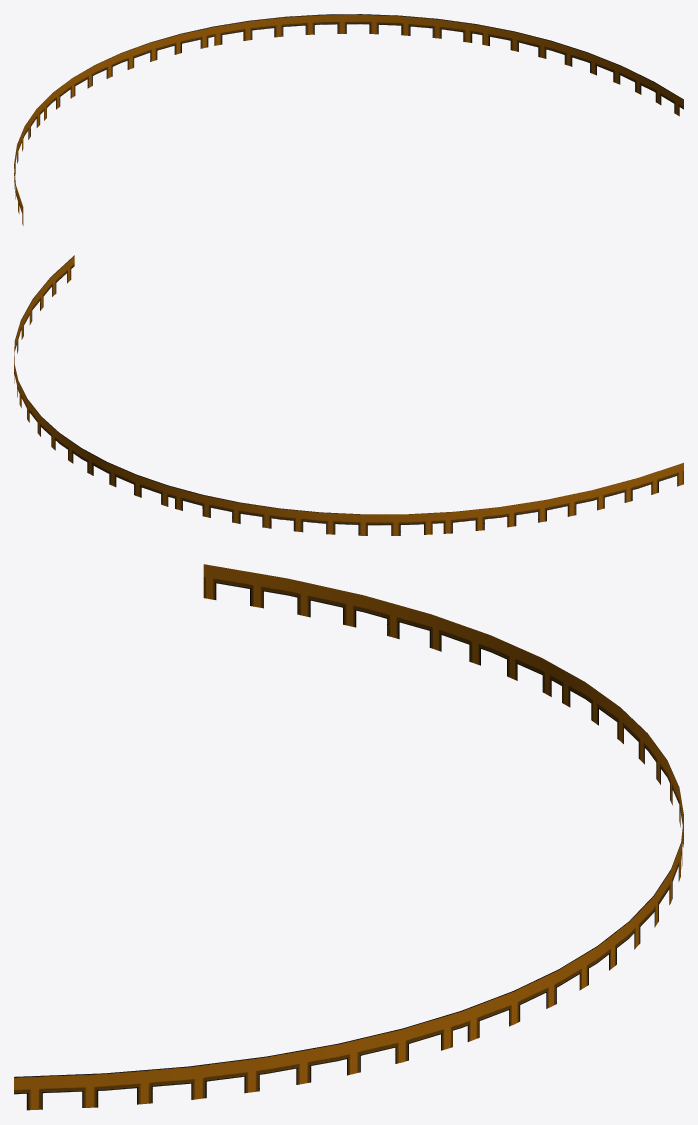
Rendered from FenceBowl.FBX.
3 renders of one model, top to bottom at view 1: azimuth 30°, elevation 25°; view 2: azimuth 150°, elevation 25°; view 3: azimuth 270°, elevation 25°, orthographic. The views are drawn at different scales.
Visible parts, largest first — view 1: Line021; view 2: Line021; view 3: Line021.
Part boxes in pixels (x1,y1,x2,y2): Line021: [14, 14, 683, 225]; Line021: [14, 255, 683, 535]; Line021: [14, 564, 683, 1110].
Bounding box in the file's own units: 19.13 × 0.5906 × 10.56.
